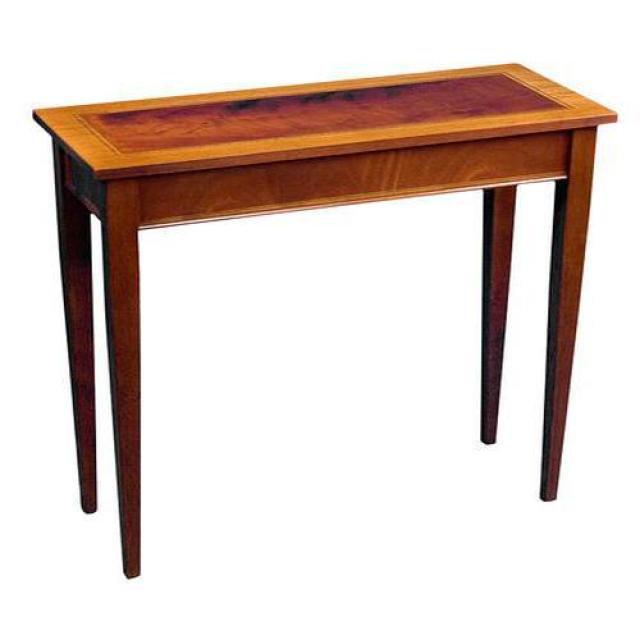table: (32, 63, 620, 582)
